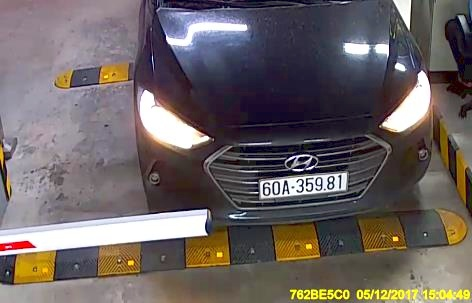plate: (258, 166, 347, 203)
